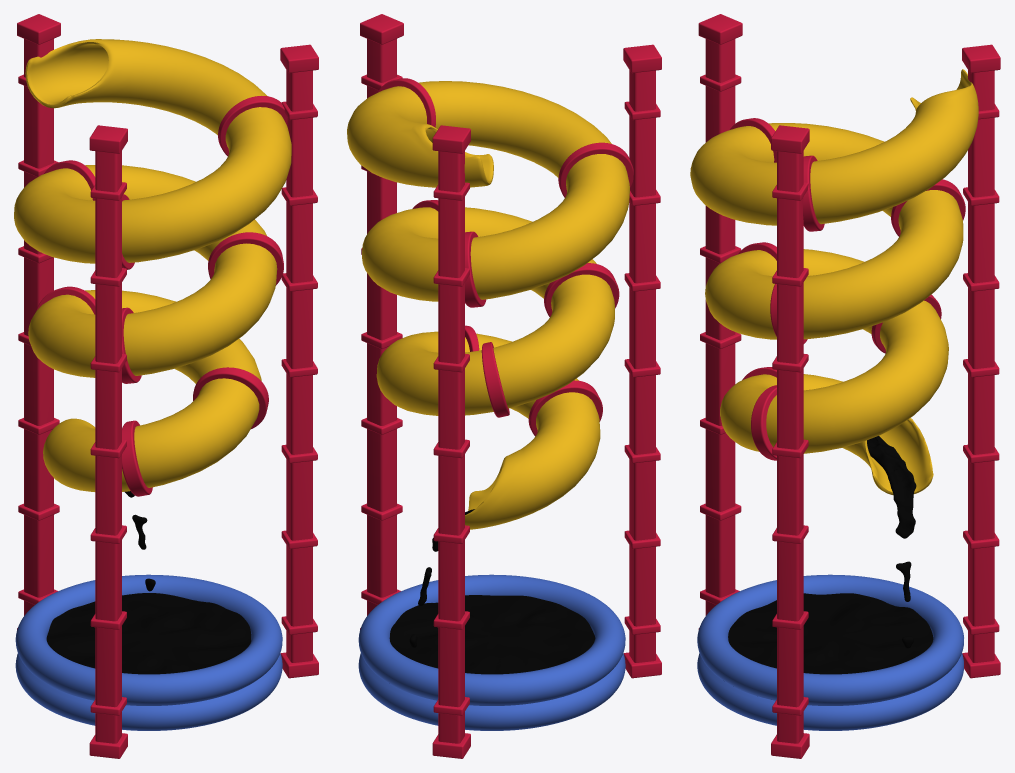
Rendered from POOLSLIDE.fbx.
The picture shows the model from 3 angles, left to right: view 1: azimuth 30°, elevation 25°; view 2: azimuth 150°, elevation 25°; view 3: azimuth 270°, elevation 25°; orthographic projection.
Visible parts, largest first — view 1: SLIDE, PILARS, POOL_1, WATER_2, RINGS; view 2: SLIDE, PILARS, POOL_1, WATER_2, RINGS; view 3: SLIDE, PILARS, POOL_1, WATER_2, RINGS, WATER.
Boxes of the visible parts, <box> form: SLIDE: <box>14,39,291,491</box>; PILARS: <box>17,14,318,758</box>; POOL_1: <box>15,574,282,730</box>; WATER_2: <box>46,593,251,674</box>; RINGS: <box>36,96,287,496</box>; SLIDE: <box>347,81,629,529</box>; PILARS: <box>360,14,661,758</box>; POOL_1: <box>358,574,625,730</box>; WATER_2: <box>389,595,595,674</box>; RINGS: <box>377,78,633,436</box>; SLIDE: <box>690,69,978,495</box>; PILARS: <box>698,14,1000,758</box>; POOL_1: <box>697,574,963,730</box>; WATER_2: <box>728,593,933,674</box>; RINGS: <box>730,118,965,460</box>; WATER: <box>867,436,916,648</box>.
Size of the model in its own units: 210 by 469 by 213.
